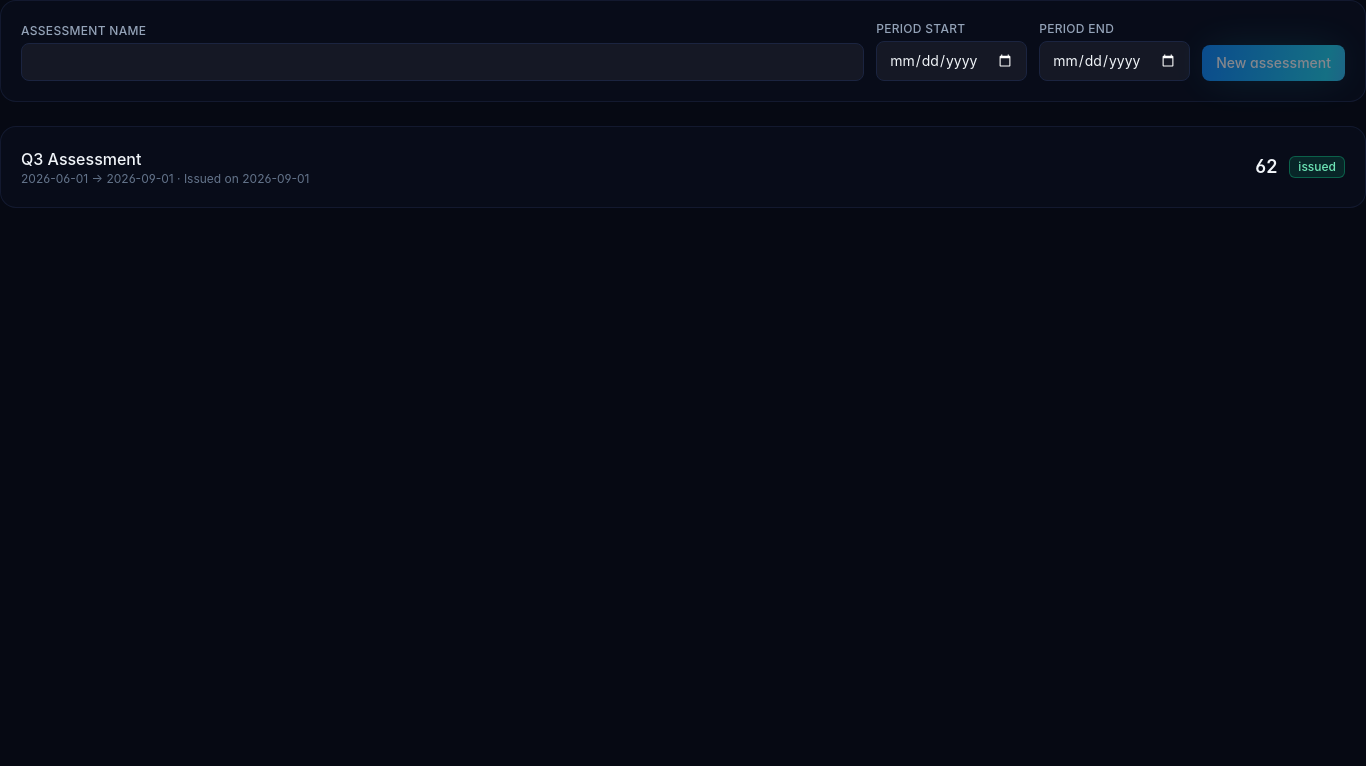
Scenario: AssessmentsTab — N/A is not 0.0 › renders "N/A" for an unscored top risk rather than 0
Click the button "Q3 Assessment" at x=81, y=159, box left=21, top=147, right=1345, bottom=187
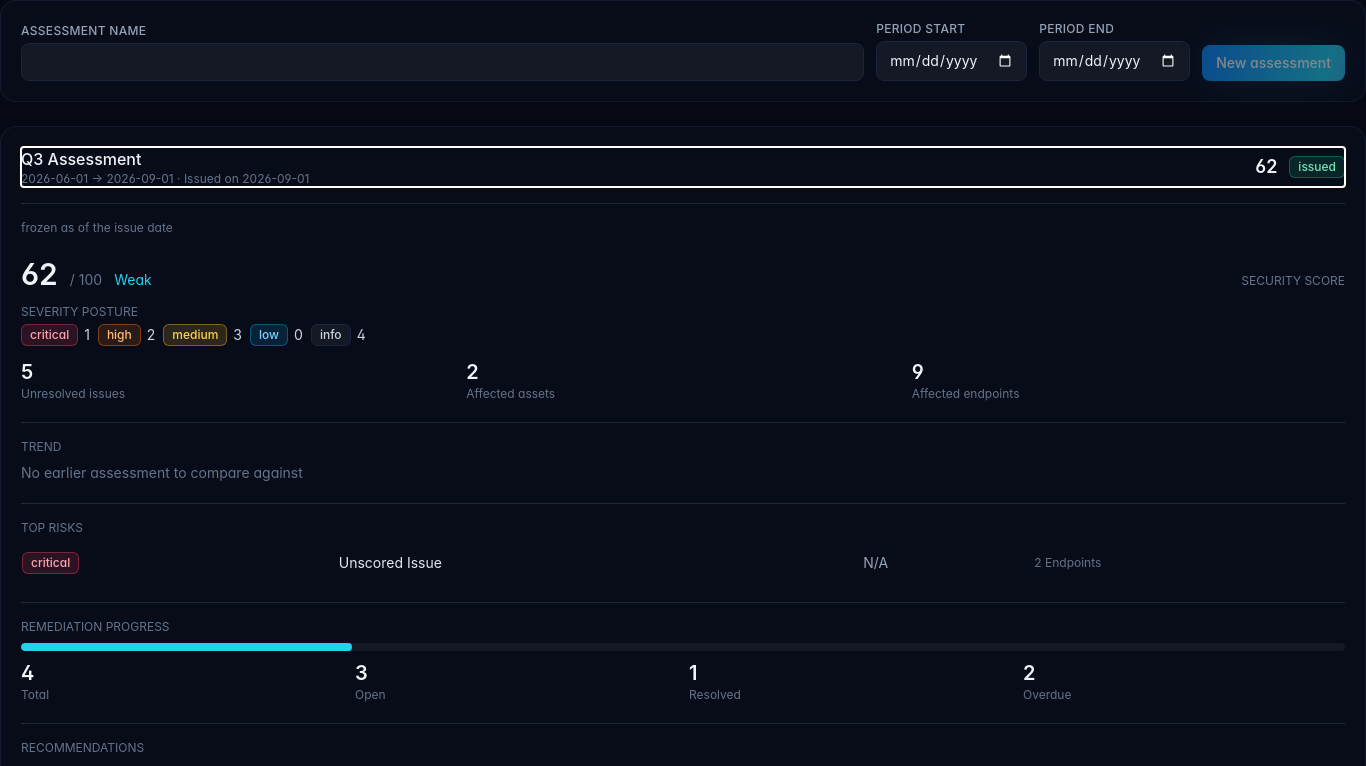
Result: the text "Unscored Issue" is shown at left=338, top=544, right=862, bottom=582
Result: the text "N/A" is shown at left=862, top=544, right=1033, bottom=582
